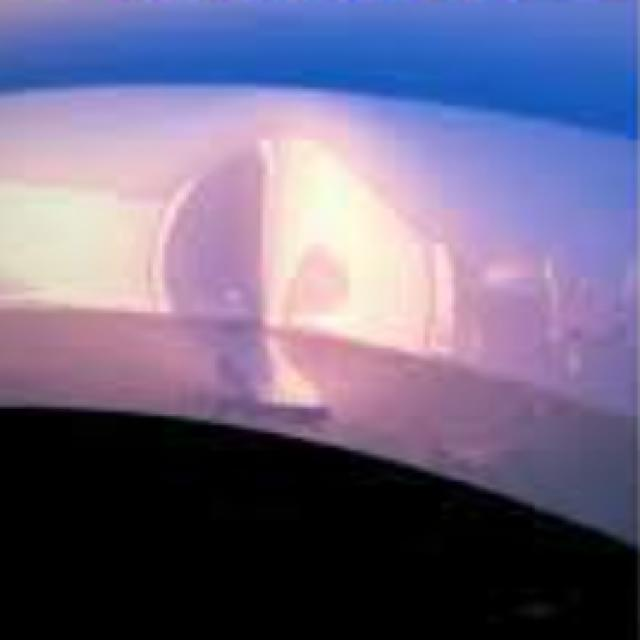dents: (114, 130, 453, 412)
